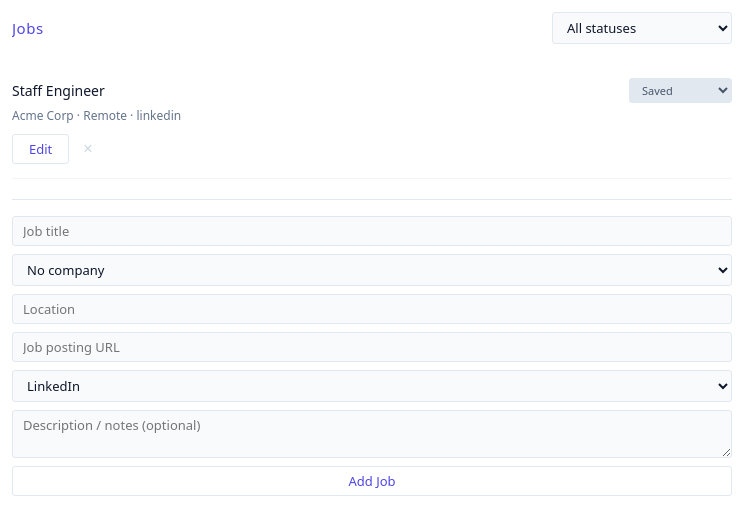
Test: JobsList › filters jobs by status
The width and height of the screenshot is (749, 513).
Check: the text "Staff Engineer" is shown, box [12,81,105,100]
Select "applied" in the dropdown showing "All statuses" in the row of "Jobs": (642, 28) [552,12,732,44]
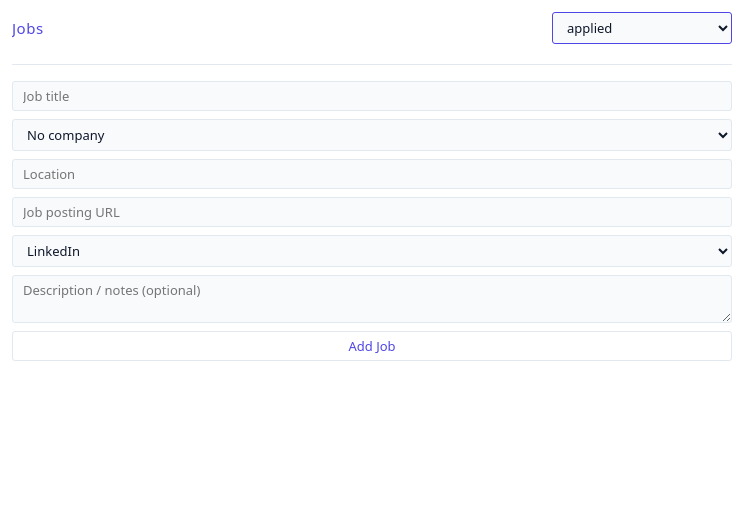
Check: the text "Staff Engineer" is gone
